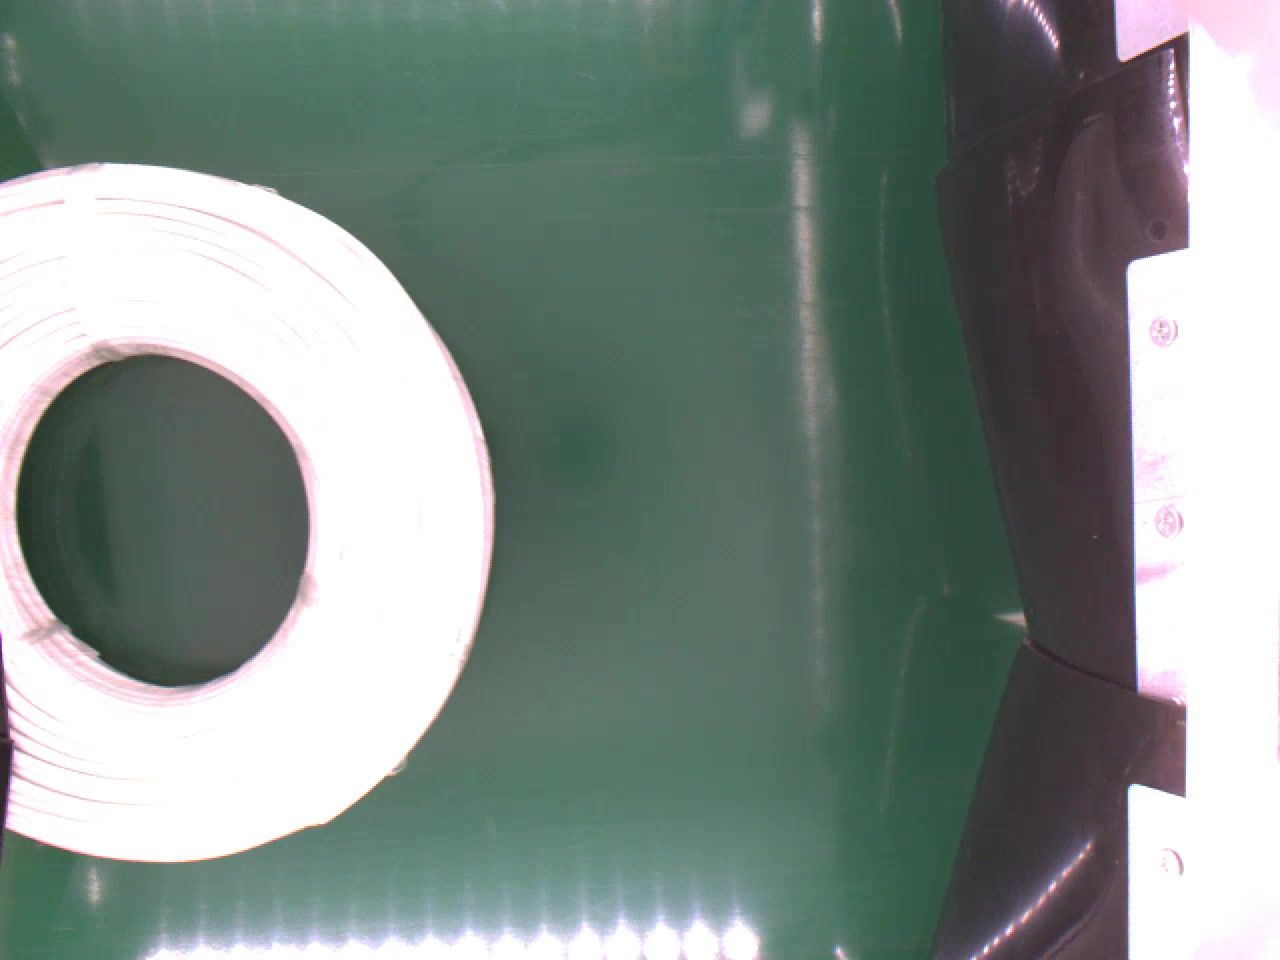white: (0, 155, 499, 864)
